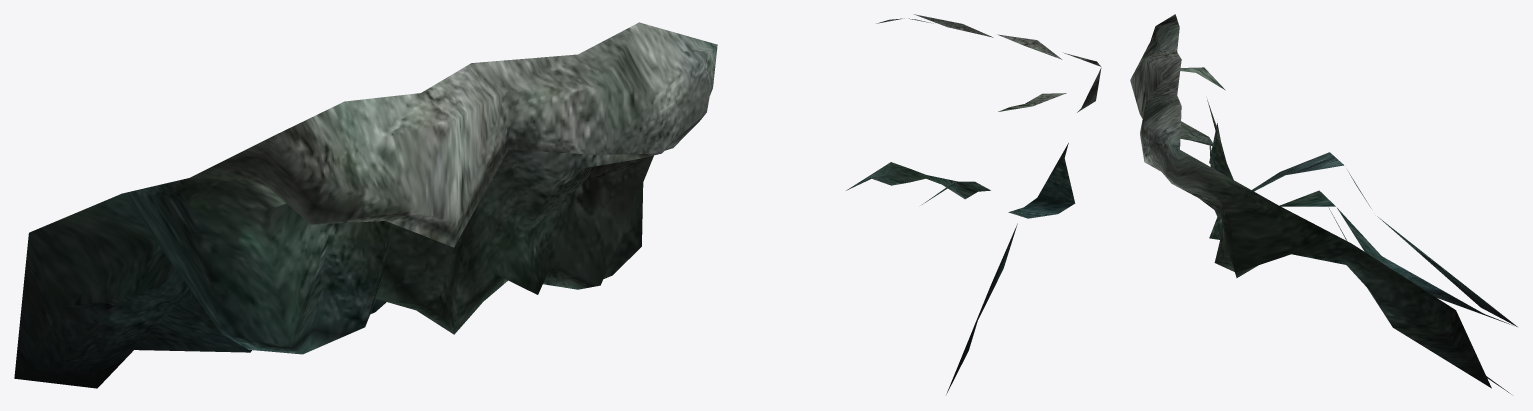
3 views of the same model, side by side, from view 1: azimuth 30°, elevation 25°; view 2: azimuth 150°, elevation 25°; view 3: azimuth 270°, elevation 25° (orthographic). The views are drawn at different scales.
Parts seen in each view (by area): view 1: model_Object21; view 2: model_Object21; view 3: model_Object21.
Boxes of the visible parts, x1,y1,x2,y2 form: model_Object21: (14, 22, 717, 388); model_Object21: (846, 14, 1101, 394); model_Object21: (1130, 14, 1517, 394).
Size of the model in its own units: 4.61 by 4.9 by 5.83.
1 material, 1 textured.
